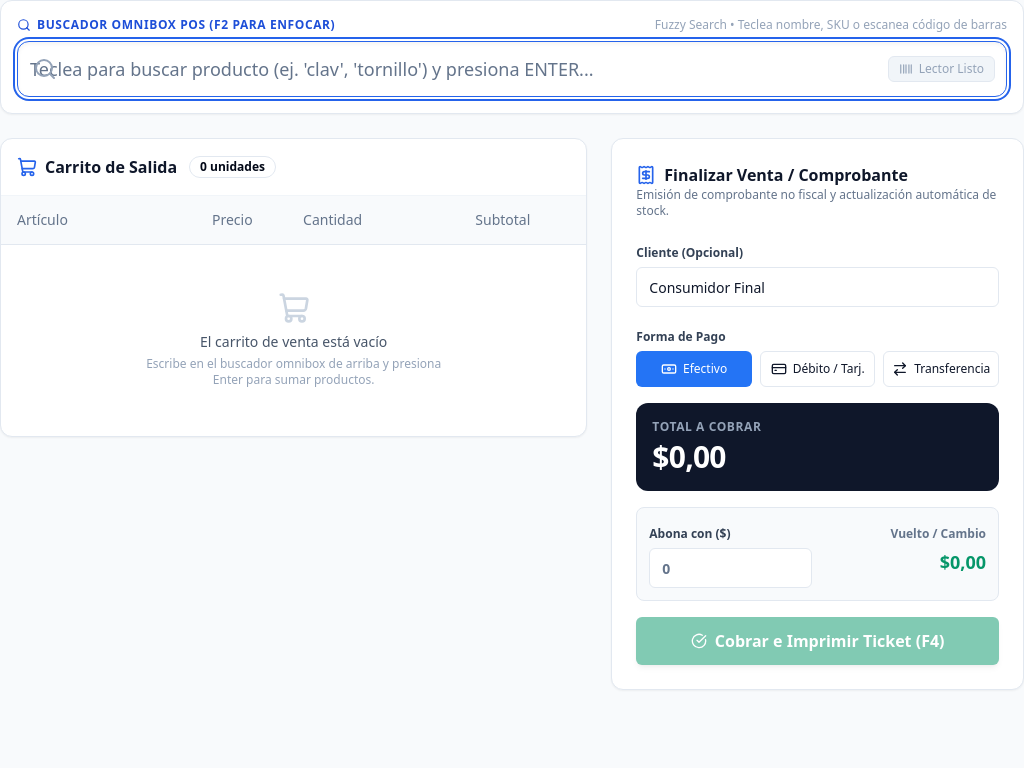
Test case: PosView Component (Fuzzy Search & Omnibox) › should add fuzzy-matched product to cart and update total
The width and height of the screenshot is (1024, 768).
Replace the text in the field with placeholder "Teclea para buscar producto" with "clav" at (512, 69), box 17,41 -> 1007,97
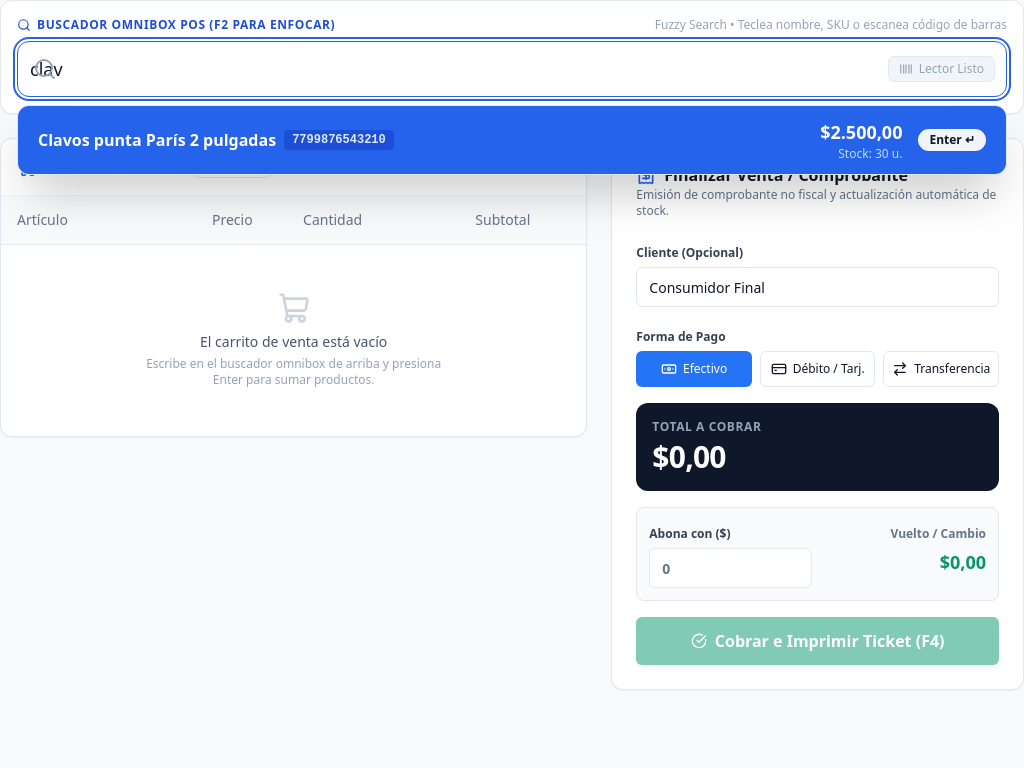
Click the button "Clavos punta París 2 pulgadas" at (157, 140), box 18,106 -> 1006,174
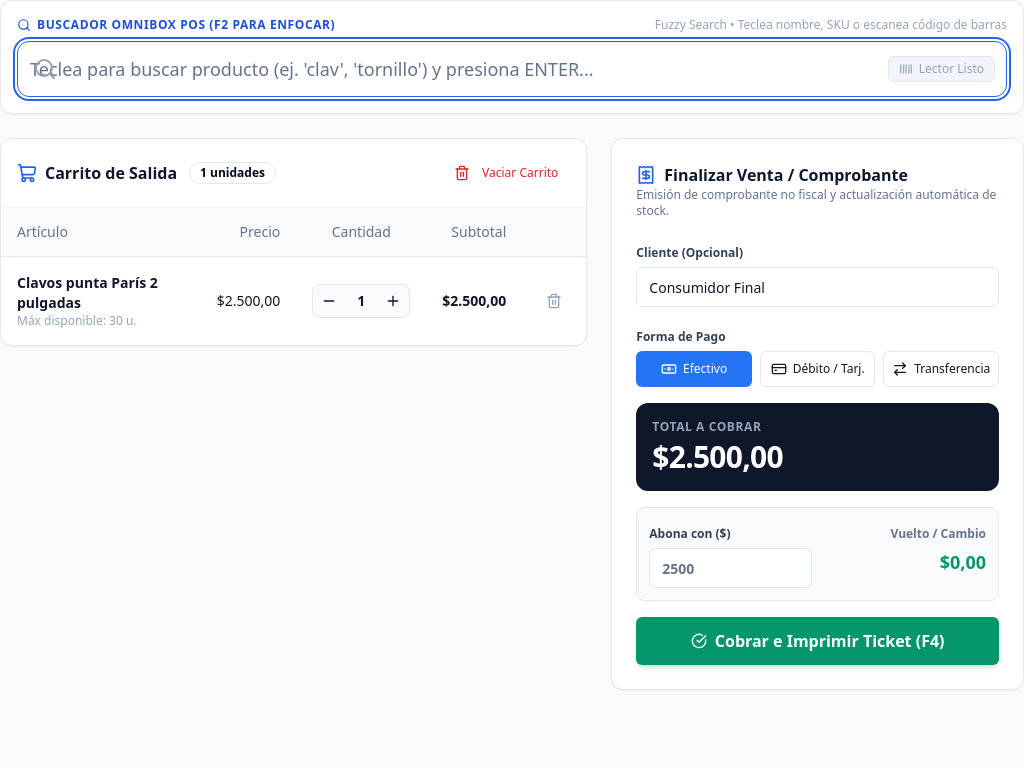
expect the text "Clavos punta París 2 pulgadas" is shown: met, box 17,272 -> 158,312
expect the 1st text "$2.500,00" is shown: met, box 201,256 -> 296,344
